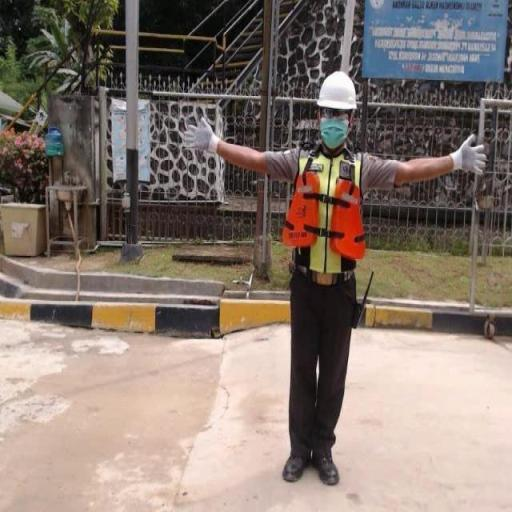Boots: (310, 448, 340, 490), (280, 448, 310, 486)
Helmet: (322, 70, 364, 112)
Person: (150, 58, 500, 504)
